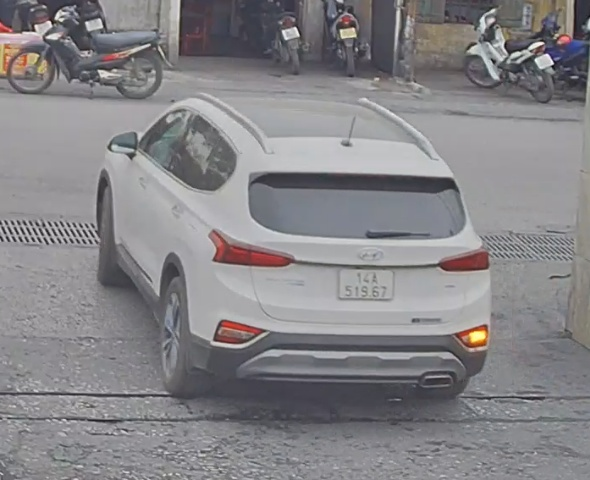vehicle plate: (333, 261, 398, 306)
